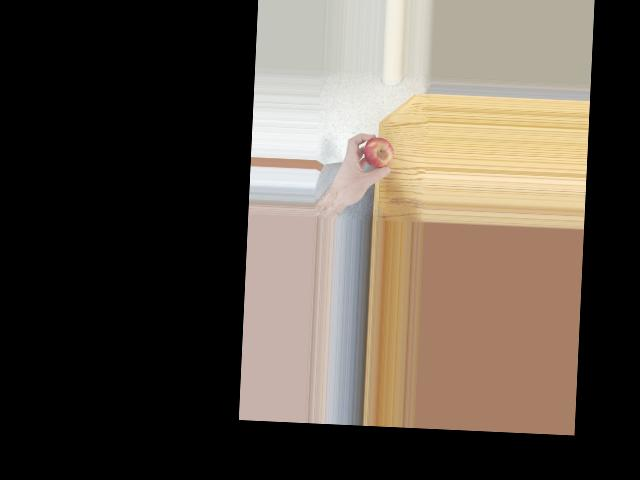apple: (357, 133, 396, 177)
